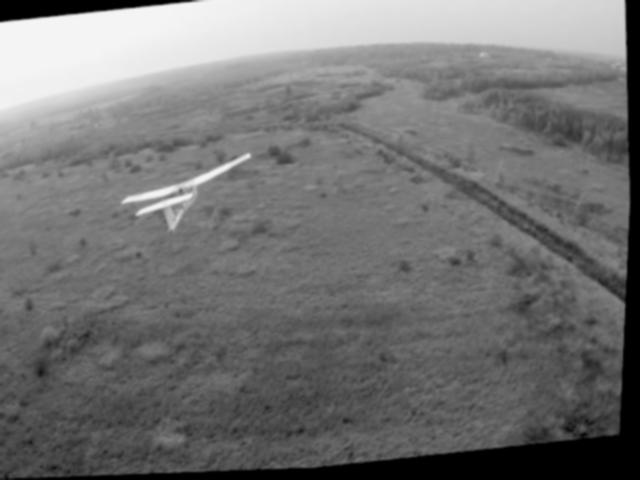hedef: (120, 149, 258, 244)
